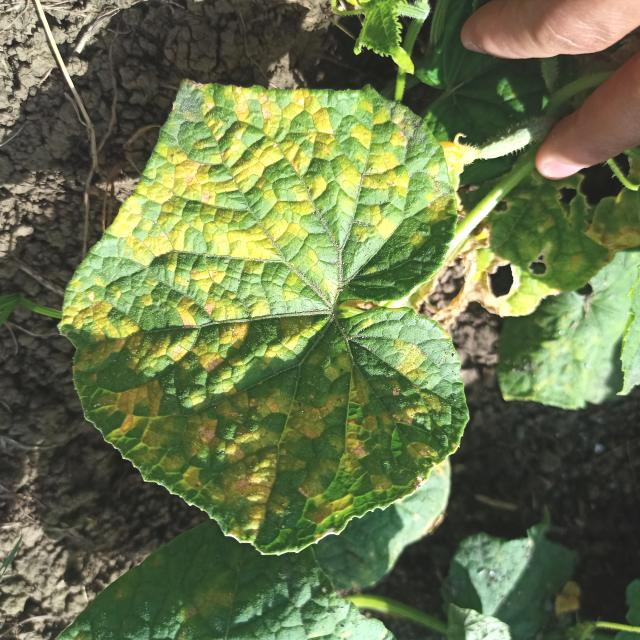disease_cucumber: (68, 92, 454, 538)
